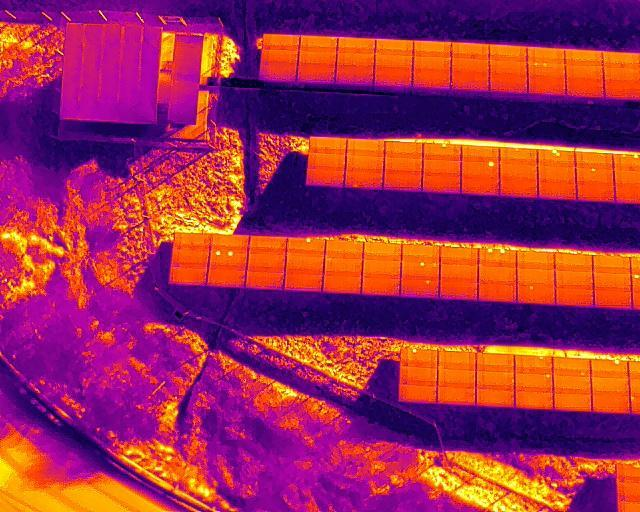Cell: (517, 284, 556, 304), (515, 374, 553, 393), (400, 280, 440, 298), (401, 349, 438, 368), (515, 356, 553, 373), (461, 162, 500, 178), (287, 238, 326, 254), (300, 36, 338, 52), (499, 149, 538, 164), (423, 145, 461, 160), (553, 360, 591, 375), (591, 362, 628, 377), (576, 168, 615, 182)
Cell-Multi: (401, 261, 441, 280), (479, 248, 517, 267), (208, 250, 248, 268), (537, 151, 574, 167), (527, 63, 565, 77), (614, 155, 640, 170)
No-Anomaly: (423, 172, 461, 193), (400, 367, 438, 387), (437, 387, 477, 406), (171, 249, 210, 268), (246, 269, 285, 288), (477, 371, 515, 390), (413, 69, 451, 88), (285, 271, 325, 289), (440, 247, 479, 265), (362, 260, 401, 278), (440, 265, 479, 283), (207, 267, 246, 285), (553, 376, 592, 394), (374, 68, 413, 86), (556, 271, 594, 289), (324, 274, 362, 292), (477, 390, 515, 408), (592, 394, 630, 412), (452, 42, 490, 60), (259, 63, 297, 81), (451, 73, 489, 91), (489, 74, 527, 92), (307, 154, 347, 171), (383, 173, 423, 190), (168, 268, 208, 285), (594, 273, 631, 291), (461, 178, 500, 195), (577, 183, 616, 200), (517, 252, 556, 269), (478, 267, 517, 284), (517, 267, 556, 284), (439, 283, 478, 300), (478, 285, 517, 302), (555, 289, 594, 306), (438, 370, 477, 387), (553, 394, 592, 411), (335, 67, 374, 84), (500, 164, 538, 181), (325, 241, 363, 258), (555, 254, 593, 271), (594, 291, 632, 308), (477, 354, 515, 371), (592, 377, 630, 394), (399, 387, 437, 404), (515, 393, 553, 410), (490, 45, 528, 62), (528, 77, 566, 94), (566, 80, 604, 97), (605, 80, 640, 98), (594, 257, 631, 274), (347, 141, 386, 157), (305, 170, 344, 186), (401, 245, 440, 261), (361, 278, 400, 294), (438, 353, 477, 369), (298, 51, 337, 67), (500, 181, 538, 197), (538, 183, 576, 199), (364, 244, 402, 260), (248, 253, 286, 269), (286, 254, 324, 270), (376, 39, 414, 55), (414, 41, 452, 57), (565, 49, 603, 65), (297, 66, 335, 82), (345, 157, 385, 172), (345, 172, 385, 187), (250, 236, 287, 252), (263, 34, 300, 50), (338, 38, 375, 54), (528, 47, 565, 63), (384, 158, 423, 173), (173, 234, 212, 249), (324, 259, 363, 274), (565, 65, 604, 80), (309, 138, 347, 153), (576, 153, 614, 168), (538, 167, 576, 182), (211, 236, 251, 250), (385, 144, 423, 158), (603, 53, 640, 67), (604, 67, 640, 81), (461, 148, 499, 161), (337, 54, 375, 67), (451, 60, 489, 73), (489, 62, 527, 75), (615, 183, 640, 202), (262, 50, 298, 63), (423, 160, 461, 172), (375, 56, 413, 68), (413, 57, 451, 69), (614, 170, 640, 183)
